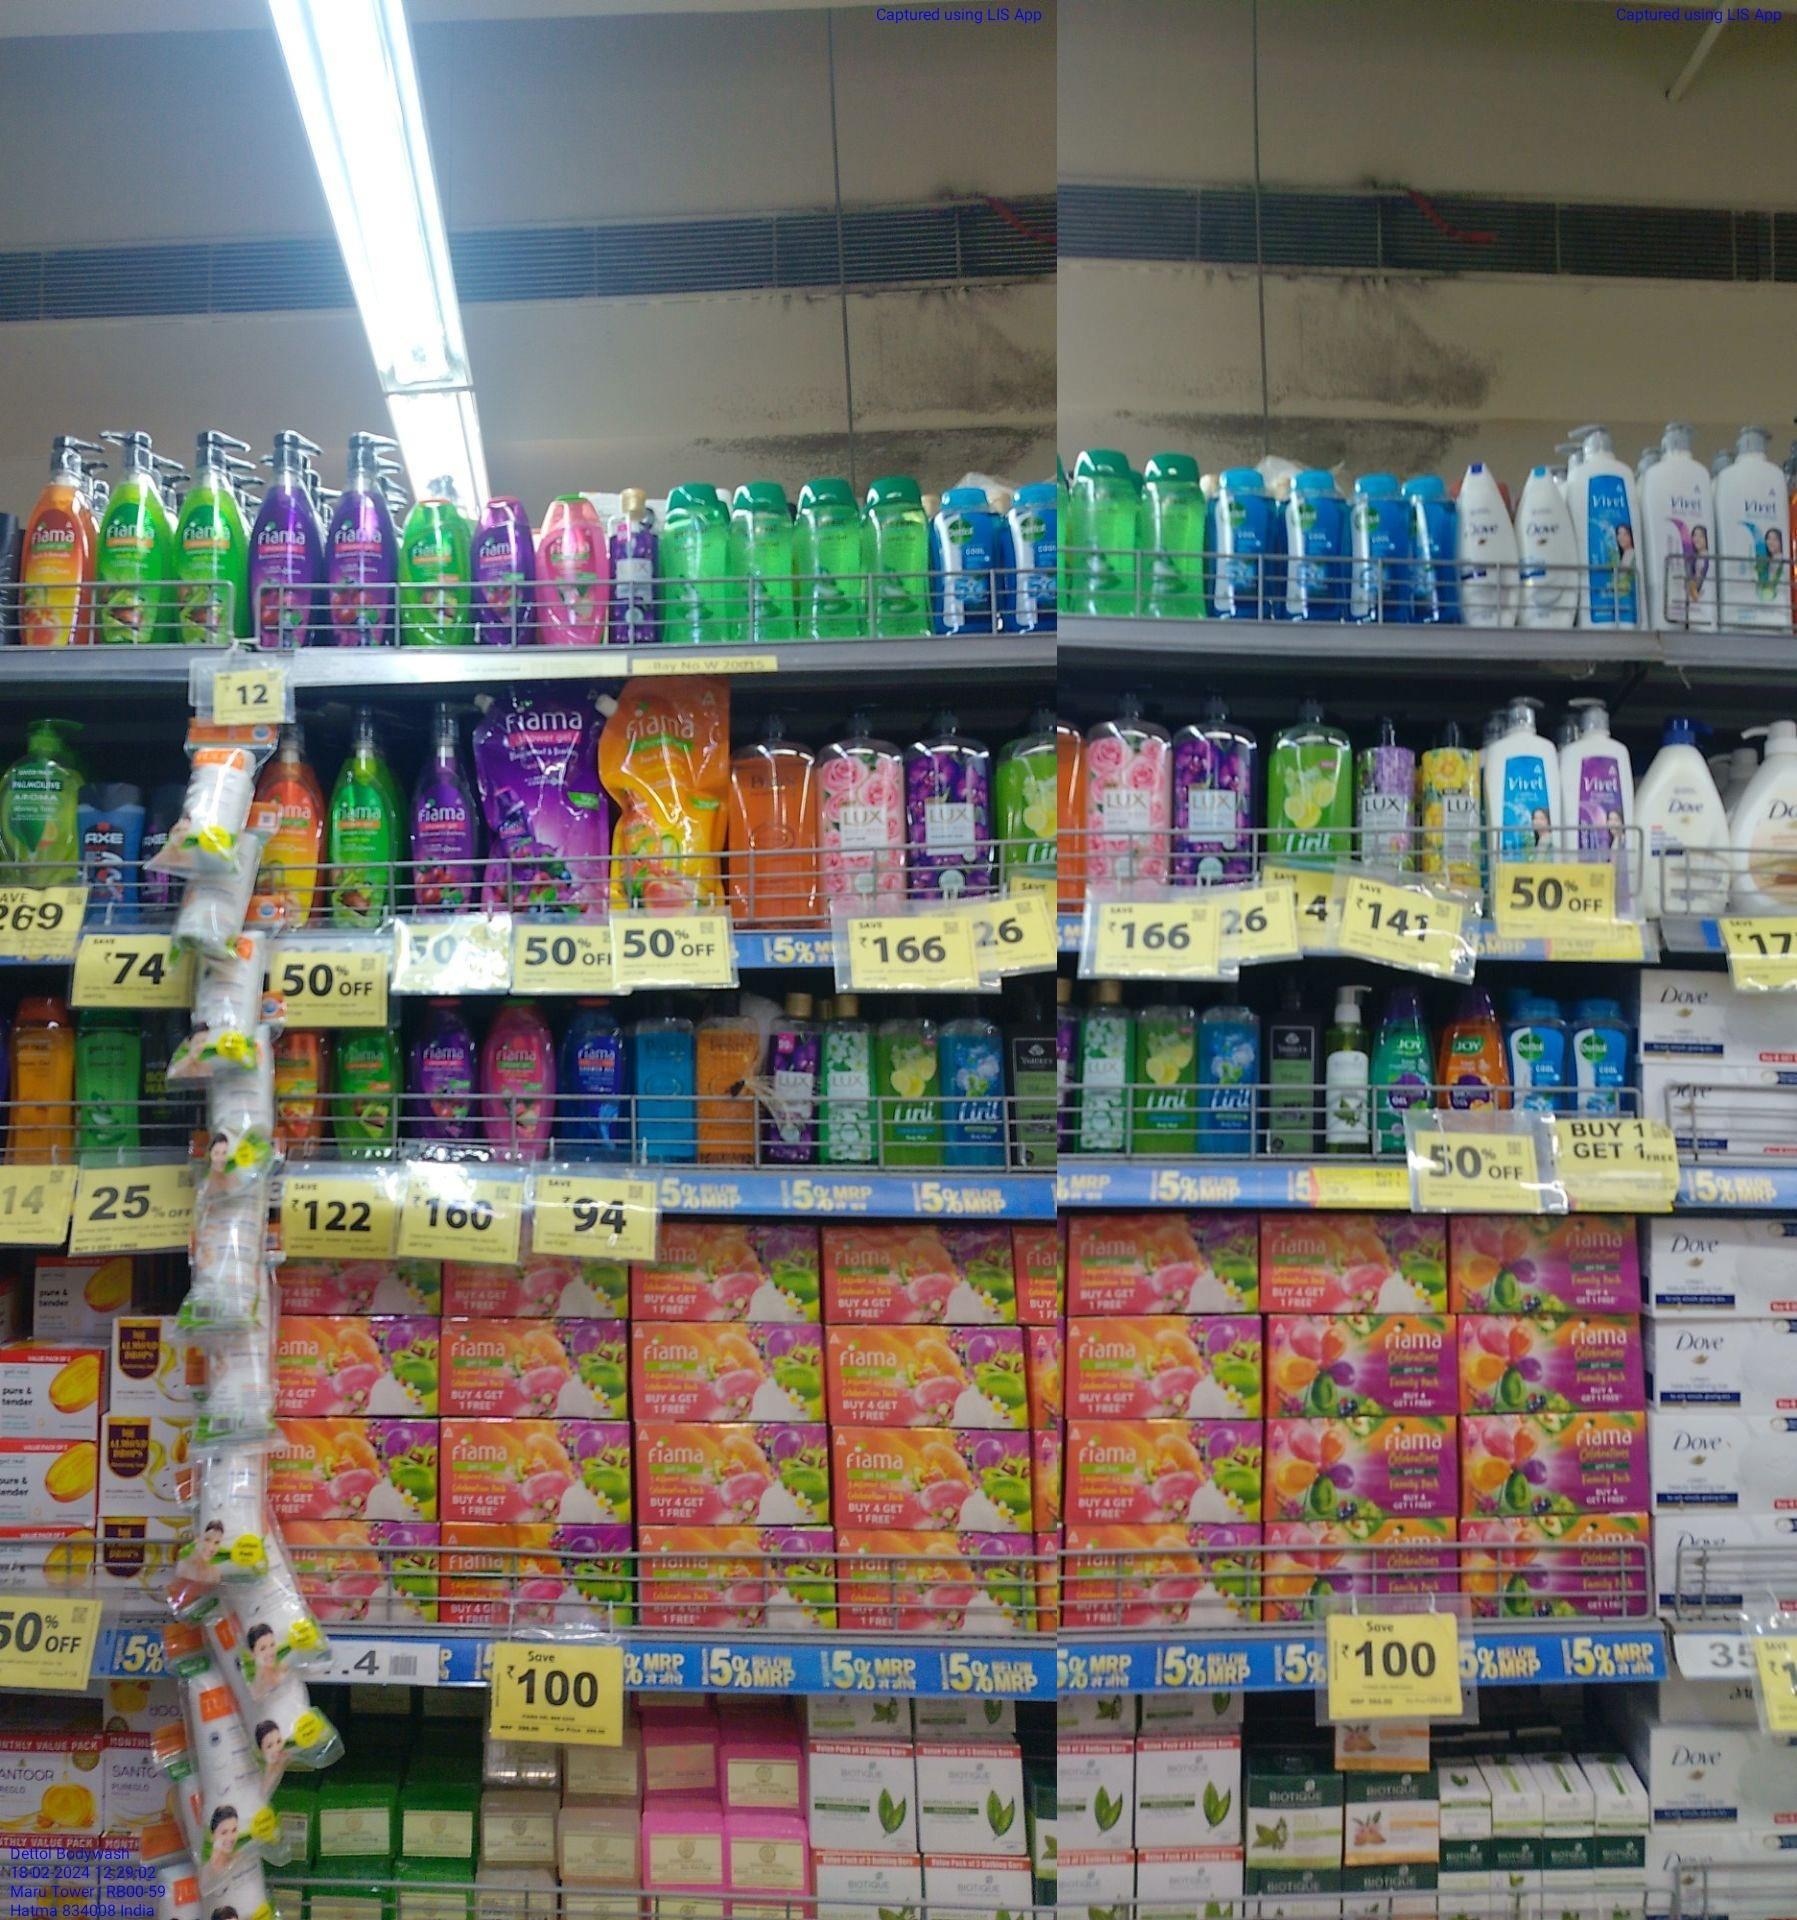Dettol_Bodywash_Cool: (1279, 469, 1346, 620), (931, 485, 996, 635), (1351, 471, 1414, 620), (1211, 468, 1268, 618), (1002, 483, 1054, 632), (1572, 988, 1633, 1111), (1513, 991, 1566, 1113)
Dove_Deep_Moisture_Body_Wash_250ML: (1456, 459, 1517, 626)
Dove_Gentle_Exfoliating_Body_Wash_250ML: (1518, 459, 1579, 632)
Fiama_Shower_Gel_Lemongrass_and_Jojoba_250ML: (400, 496, 464, 647), (333, 1025, 399, 1155)
Fiama_Shower_Gel_Patchouli_and_Macadamia_250ML: (485, 996, 551, 1155), (537, 498, 606, 645)
Get_Real_Shower_Gel_Moisturising_Glycerin_300ML: (3, 996, 71, 1157)
Joy_Shower_Gel_Mandarin_and_Lemongrass_250ML: (1439, 986, 1508, 1111)
Joy_Shower_Gel_Mint_and_Eucalyptus_250ML: (1371, 979, 1434, 1148)
Liril_Cooling_Mint_Body_Wash_250ML: (1196, 981, 1265, 1148), (944, 1001, 1007, 1162)
Liril_Lime_and_Tea_Tree_Oil_Body_Wash_250ML: (880, 991, 941, 1167), (1133, 974, 1194, 1148)
Lux_Black_Orchid_Scent_and_Juniper_Oil_Body_Wash_245ML: (763, 988, 816, 1163)
Lux_Body_Wash_Skin_Detox_Freesia_Scent_and_Alove_Vera_245ML: (821, 988, 878, 1163), (1074, 978, 1127, 1157)
